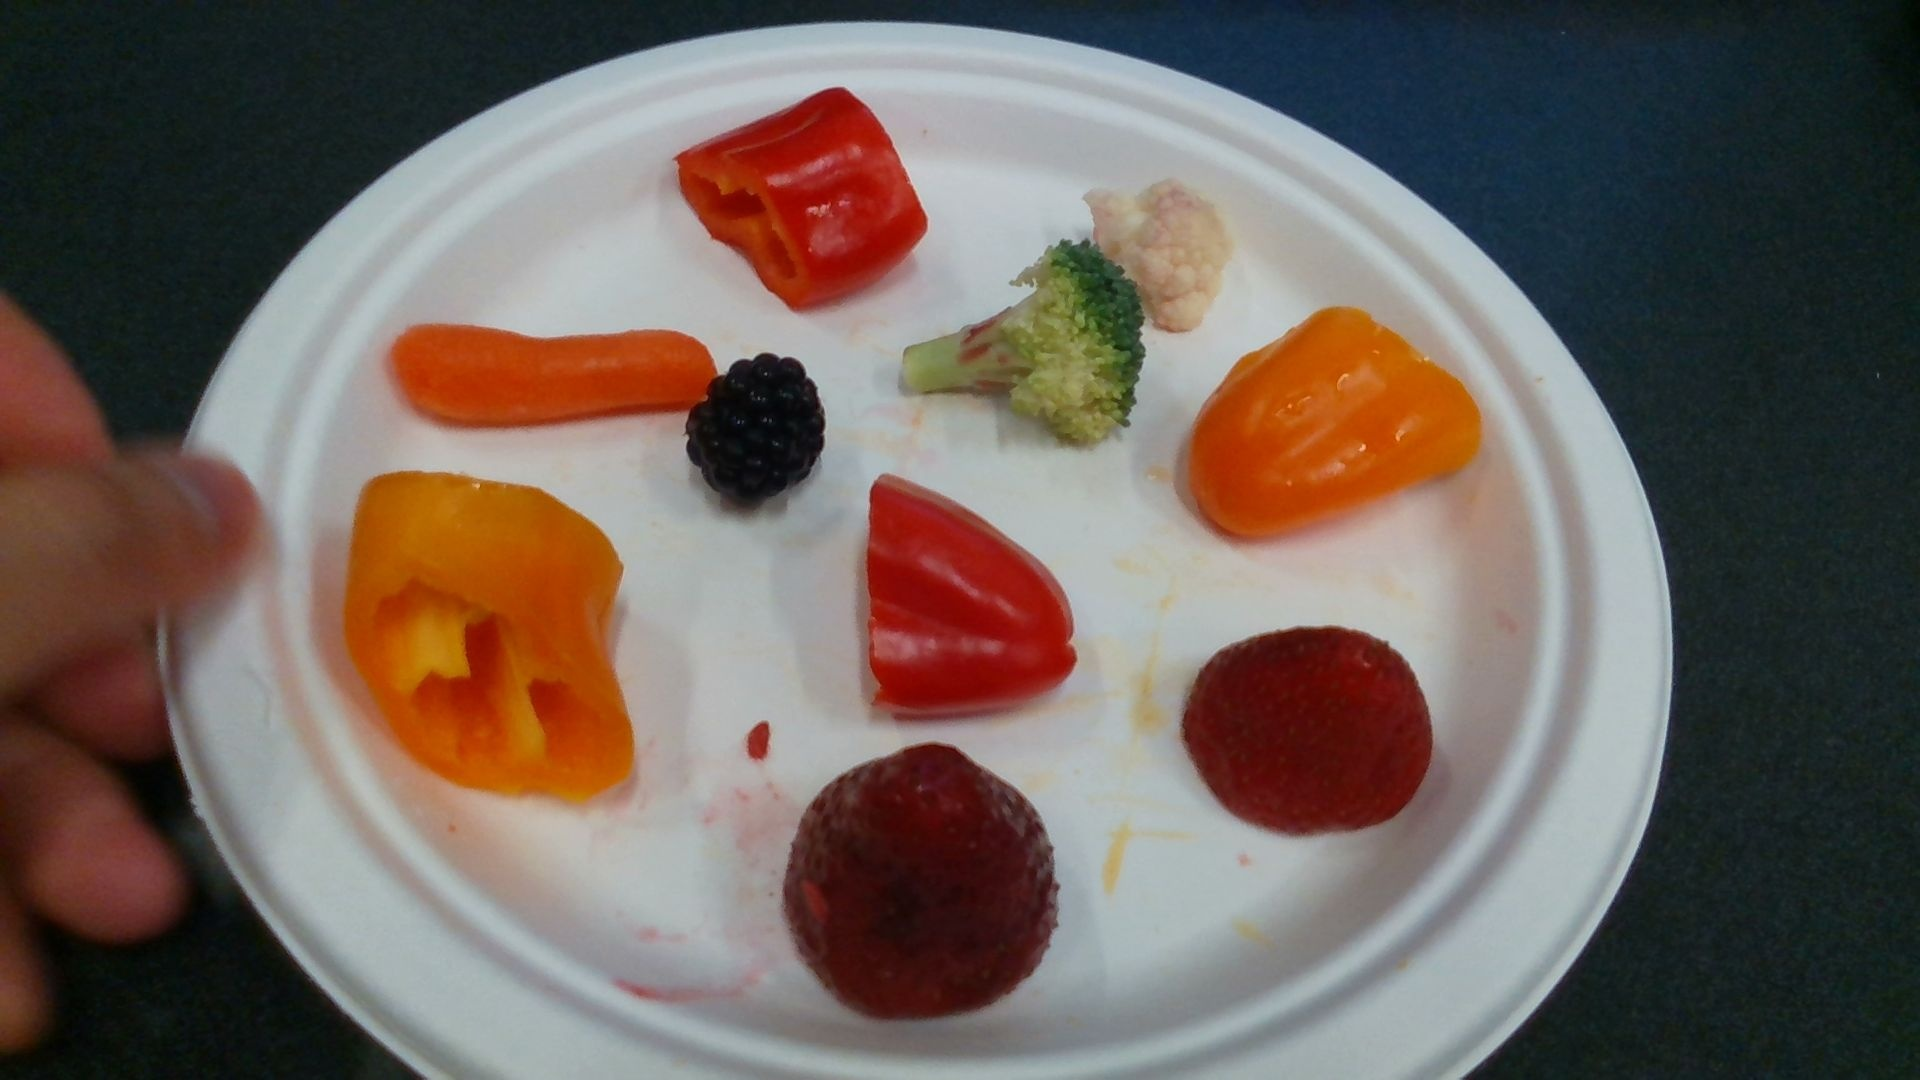bell_pepper: (349, 475, 636, 800), (1189, 309, 1482, 535), (680, 91, 924, 305), (869, 476, 1075, 716)
blackberry: (692, 357, 822, 501)
broccoli: (905, 241, 1145, 440)
carrot: (389, 326, 717, 421)
cauliflower: (1084, 181, 1229, 328)
strawberry: (789, 746, 1054, 1021), (1184, 628, 1432, 833)
